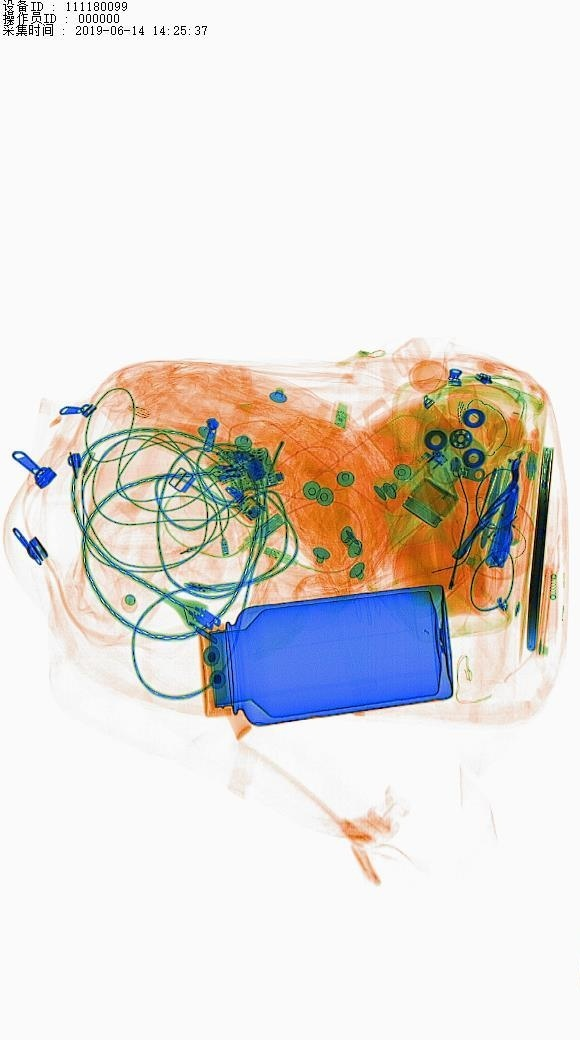NonmetallicFire: (371, 442, 462, 511)
